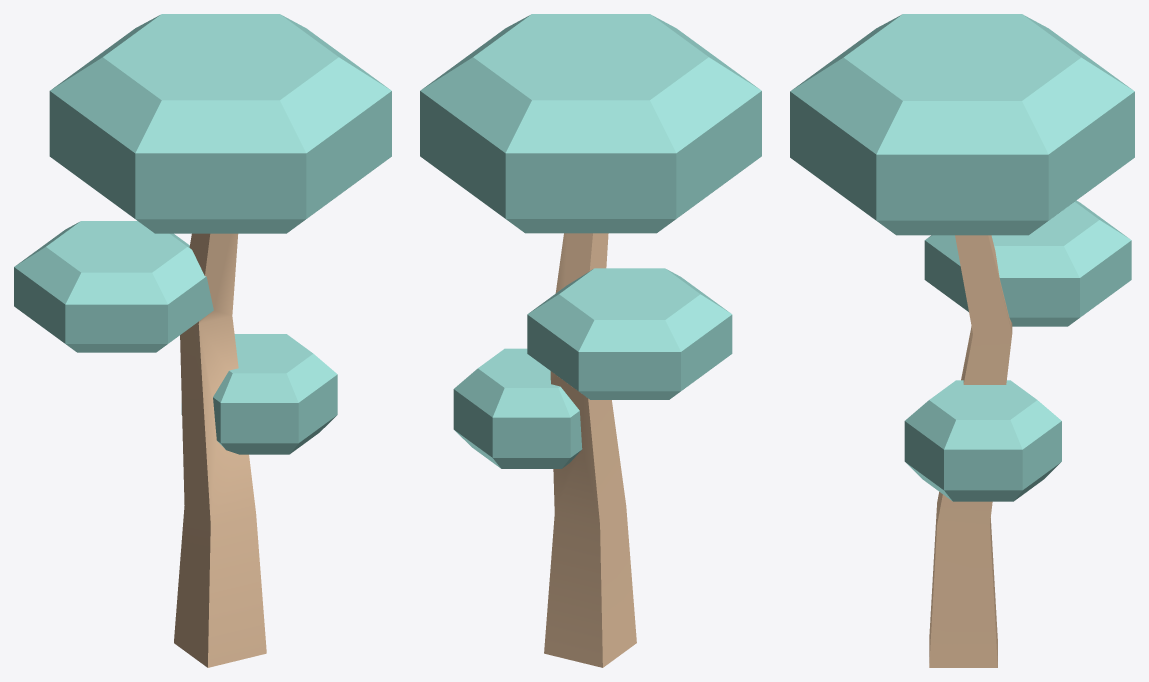
File: tree_plateau.glb
The picture shows the model from 3 angles, left to right: view 1: azimuth 30°, elevation 25°; view 2: azimuth 150°, elevation 25°; view 3: azimuth 270°, elevation 25°; orthographic projection.
Visible parts, largest first — view 1: tree_plateau; view 2: tree_plateau; view 3: tree_plateau.
Boxes of the visible parts, bbox=[...] form: tree_plateau: bbox=[14, 14, 391, 667]; tree_plateau: bbox=[420, 14, 761, 667]; tree_plateau: bbox=[790, 14, 1134, 667].
Size of the model in its own units: 0.6117 by 1.25 by 0.6549.
